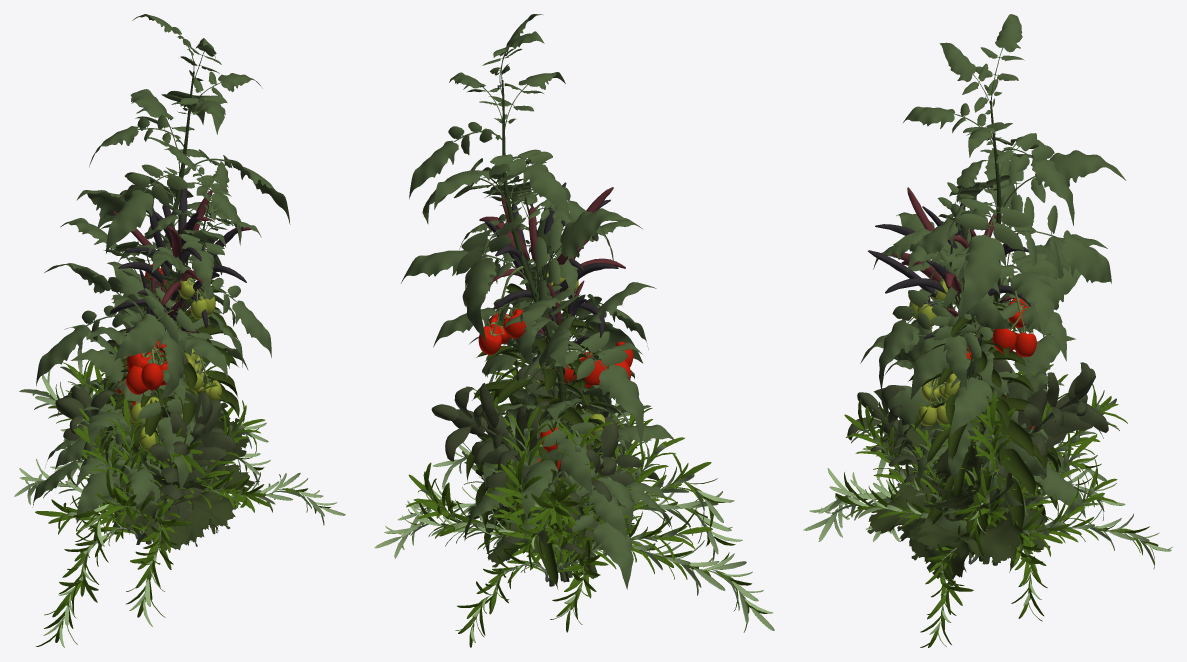
The model's file is basil_t.glb.
The picture shows the model from 3 angles, left to right: view 1: azimuth 30°, elevation 25°; view 2: azimuth 150°, elevation 25°; view 3: azimuth 270°, elevation 25°; orthographic projection. The views are drawn at different scales.
Visible parts, largest first — view 1: TOMATO 18092019 2, rosemary 021023 1, TOMATO 18092019 2.001, Red pepper 24092019 2, basil 13032021 008, Lettuce 13032019 006, Red pepper 24092019 5; view 2: TOMATO 18092019 2, rosemary 021023 1, TOMATO 18092019 2.001, basil 13032021 008, Red pepper 24092019 2, Red pepper 24092019 5, Lettuce 13032019 006; view 3: TOMATO 18092019 2, rosemary 021023 1, TOMATO 18092019 2.001, Red pepper 24092019 2, Lettuce 13032019 006, basil 13032021 008.
Boxes of the visible parts, left/top/right/bottom form: TOMATO 18092019 2: left=32, top=14, right=290, bottom=534; rosemary 021023 1: left=14, top=346, right=345, bottom=647; TOMATO 18092019 2.001: left=45, top=147, right=271, bottom=520; Red pepper 24092019 2: left=99, top=181, right=251, bottom=539; basil 13032021 008: left=55, top=307, right=236, bottom=544; Lettuce 13032019 006: left=113, top=400, right=259, bottom=550; Red pepper 24092019 5: left=99, top=263, right=203, bottom=514; TOMATO 18092019 2: left=401, top=14, right=676, bottom=589; rosemary 021023 1: left=374, top=348, right=774, bottom=647; TOMATO 18092019 2.001: left=459, top=158, right=668, bottom=576; basil 13032021 008: left=431, top=364, right=642, bottom=586; Red pepper 24092019 2: left=466, top=182, right=625, bottom=588; Red pepper 24092019 5: left=513, top=280, right=621, bottom=575; Lettuce 13032019 006: left=462, top=407, right=636, bottom=581; TOMATO 18092019 2: left=873, top=14, right=1126, bottom=556; rosemary 021023 1: left=803, top=364, right=1172, bottom=647; TOMATO 18092019 2.001: left=860, top=160, right=1072, bottom=533; Red pepper 24092019 2: left=868, top=187, right=1061, bottom=572; Lettuce 13032019 006: left=867, top=407, right=1050, bottom=585; basil 13032021 008: left=847, top=359, right=1108, bottom=565.
Size of the model in its own units: 0.5659 by 0.9316 by 0.5189.
